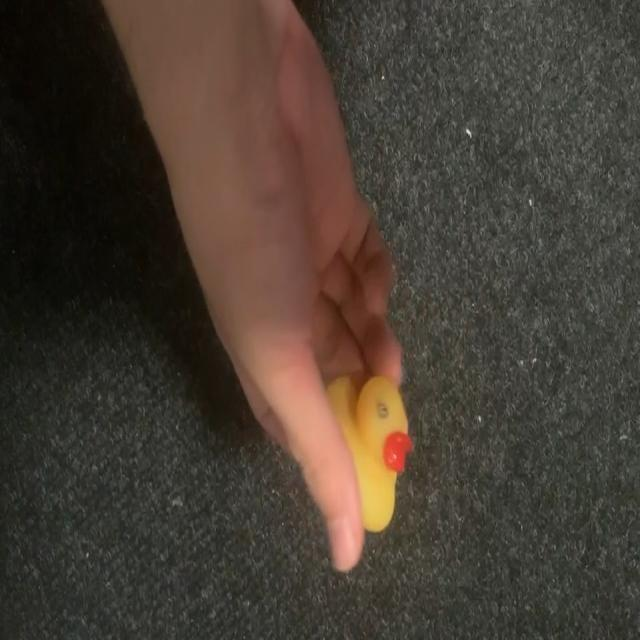rubber-duck: (326, 375, 411, 530)
